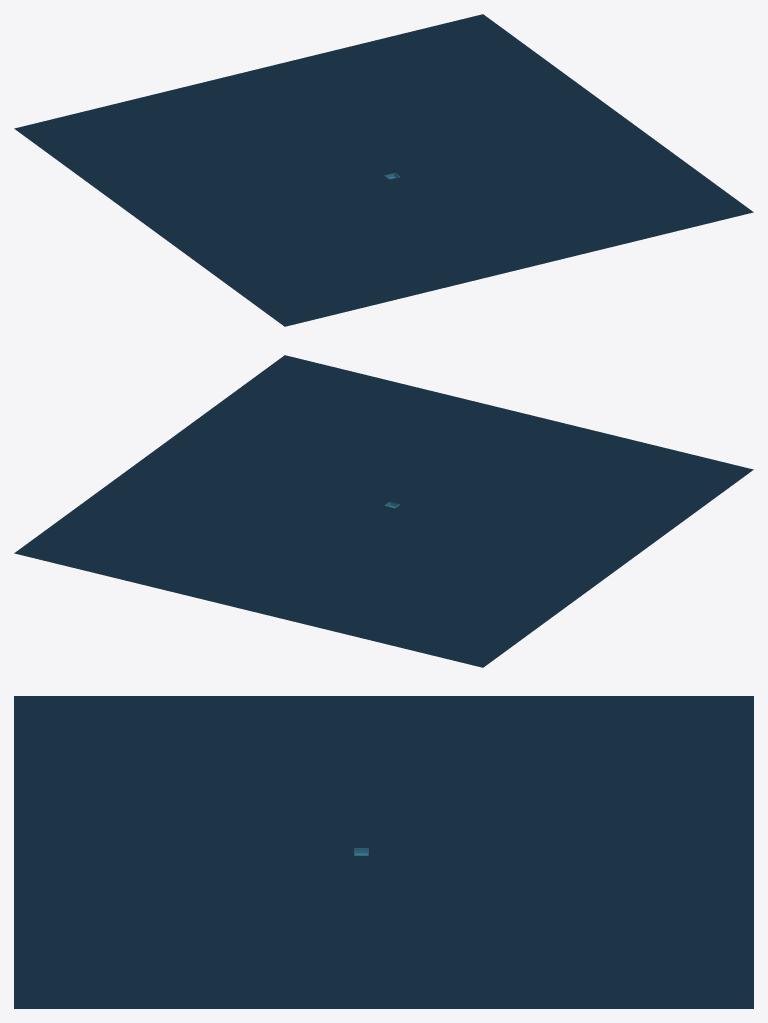
File: Horizon.glb
3 views of the same model, one above another, from view 1: azimuth 30°, elevation 25°; view 2: azimuth 150°, elevation 25°; view 3: azimuth 270°, elevation 25° (orthographic). The views are drawn at different scales.
Visible parts, largest first — view 1: Horizon; view 2: Horizon; view 3: Horizon.
Part boxes in pixels (left/top/right/bottom): Horizon: left=14, top=14, right=753, bottom=326; Horizon: left=14, top=355, right=753, bottom=667; Horizon: left=14, top=696, right=753, bottom=1008.
Size of the model in its own units: 151 by 0.946 by 151.
